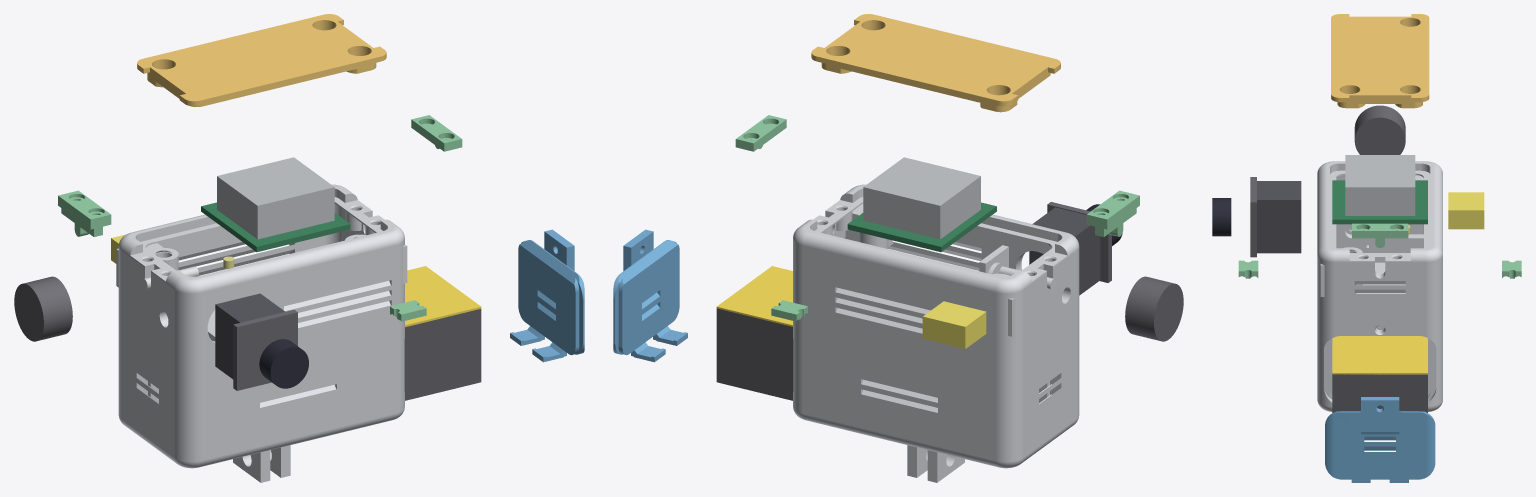
Rendered from sender850_exploded_v5.glb.
The picture shows the model from 3 angles, left to right: view 1: azimuth 30°, elevation 25°; view 2: azimuth 150°, elevation 25°; view 3: azimuth 270°, elevation 25°; orthographic projection. The views are drawn at different scales.
Visible parts, largest first — view 1: body, cover, door, =>[0:1:1:4], =>[0:1:1:9], =>[0:1:1:6], =>[0:1:1:13], =>[0:1:1:10], =>[0:1:1:7], =>[0:1:1:3], =>[0:1:1:8], tee_proud (+1 smaller); view 2: body, cover, door, =>[0:1:1:4], =>[0:1:1:9], =>[0:1:1:13], =>[0:1:1:10], =>[0:1:1:7], =>[0:1:1:11], =>[0:1:1:3], tee_proud, tee_flush (+1 smaller); view 3: body, cover, door, =>[0:1:1:4], =>[0:1:1:10], =>[0:1:1:7], =>[0:1:1:9], =>[0:1:1:13], =>[0:1:1:3], =>[0:1:1:11], tee_flush, =>[0:1:1:8] (+3 smaller).
Boxes of the visible parts, x1,y1,x2,y2 form: body: (116,184,407,482); cover: (137,14,386,106); door: (510,229,584,362); =>[0:1:1:4]: (217,157,334,239); =>[0:1:1:9]: (404,309,481,400); =>[0:1:1:6]: (233,309,297,390); =>[0:1:1:13]: (14,276,72,341); =>[0:1:1:10]: (405,266,481,327); =>[0:1:1:7]: (215,293,284,379); =>[0:1:1:3]: (201,202,350,251); =>[0:1:1:8]: (259,339,308,388); tee_proud: (58,190,111,236); body: (793,184,1079,482); cover: (811,14,1060,112); door: (613,229,687,362); =>[0:1:1:4]: (863,157,980,239); =>[0:1:1:9]: (716,308,793,400); =>[0:1:1:13]: (1125,276,1183,341); =>[0:1:1:10]: (716,266,792,326); =>[0:1:1:7]: (1029,207,1100,295); =>[0:1:1:11]: (922,301,986,348); =>[0:1:1:3]: (847,202,996,251); tee_proud: (1086,190,1139,236); tee_flush: (735,115,786,151); body: (1317,161,1442,411); cover: (1331,14,1429,108); door: (1325,397,1435,482); =>[0:1:1:4]: (1345,155,1415,215); =>[0:1:1:10]: (1332,336,1427,374); =>[0:1:1:7]: (1257,181,1301,253); =>[0:1:1:9]: (1332,374,1427,413); =>[0:1:1:13]: (1354,105,1405,154); =>[0:1:1:3]: (1332,180,1427,224); =>[0:1:1:11]: (1448,192,1484,229); tee_flush: (1352,223,1408,247); =>[0:1:1:8]: (1212,198,1231,236).
Size of the model in its own units: 167 by 123 by 97.2.
